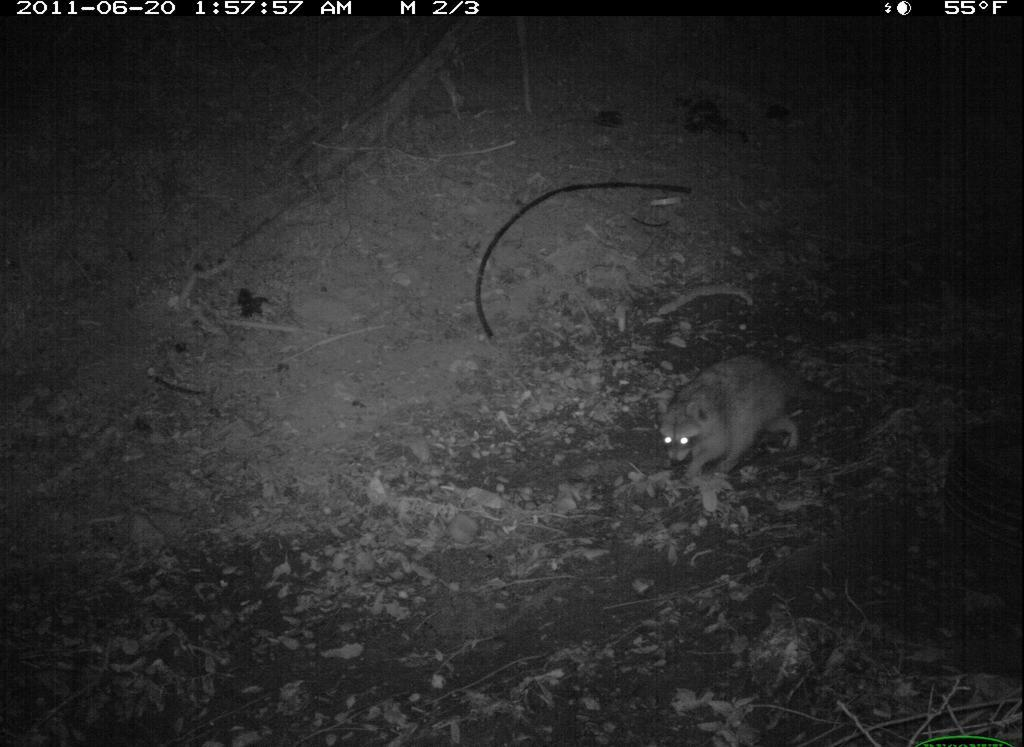raccoon: (651, 348, 824, 492)
